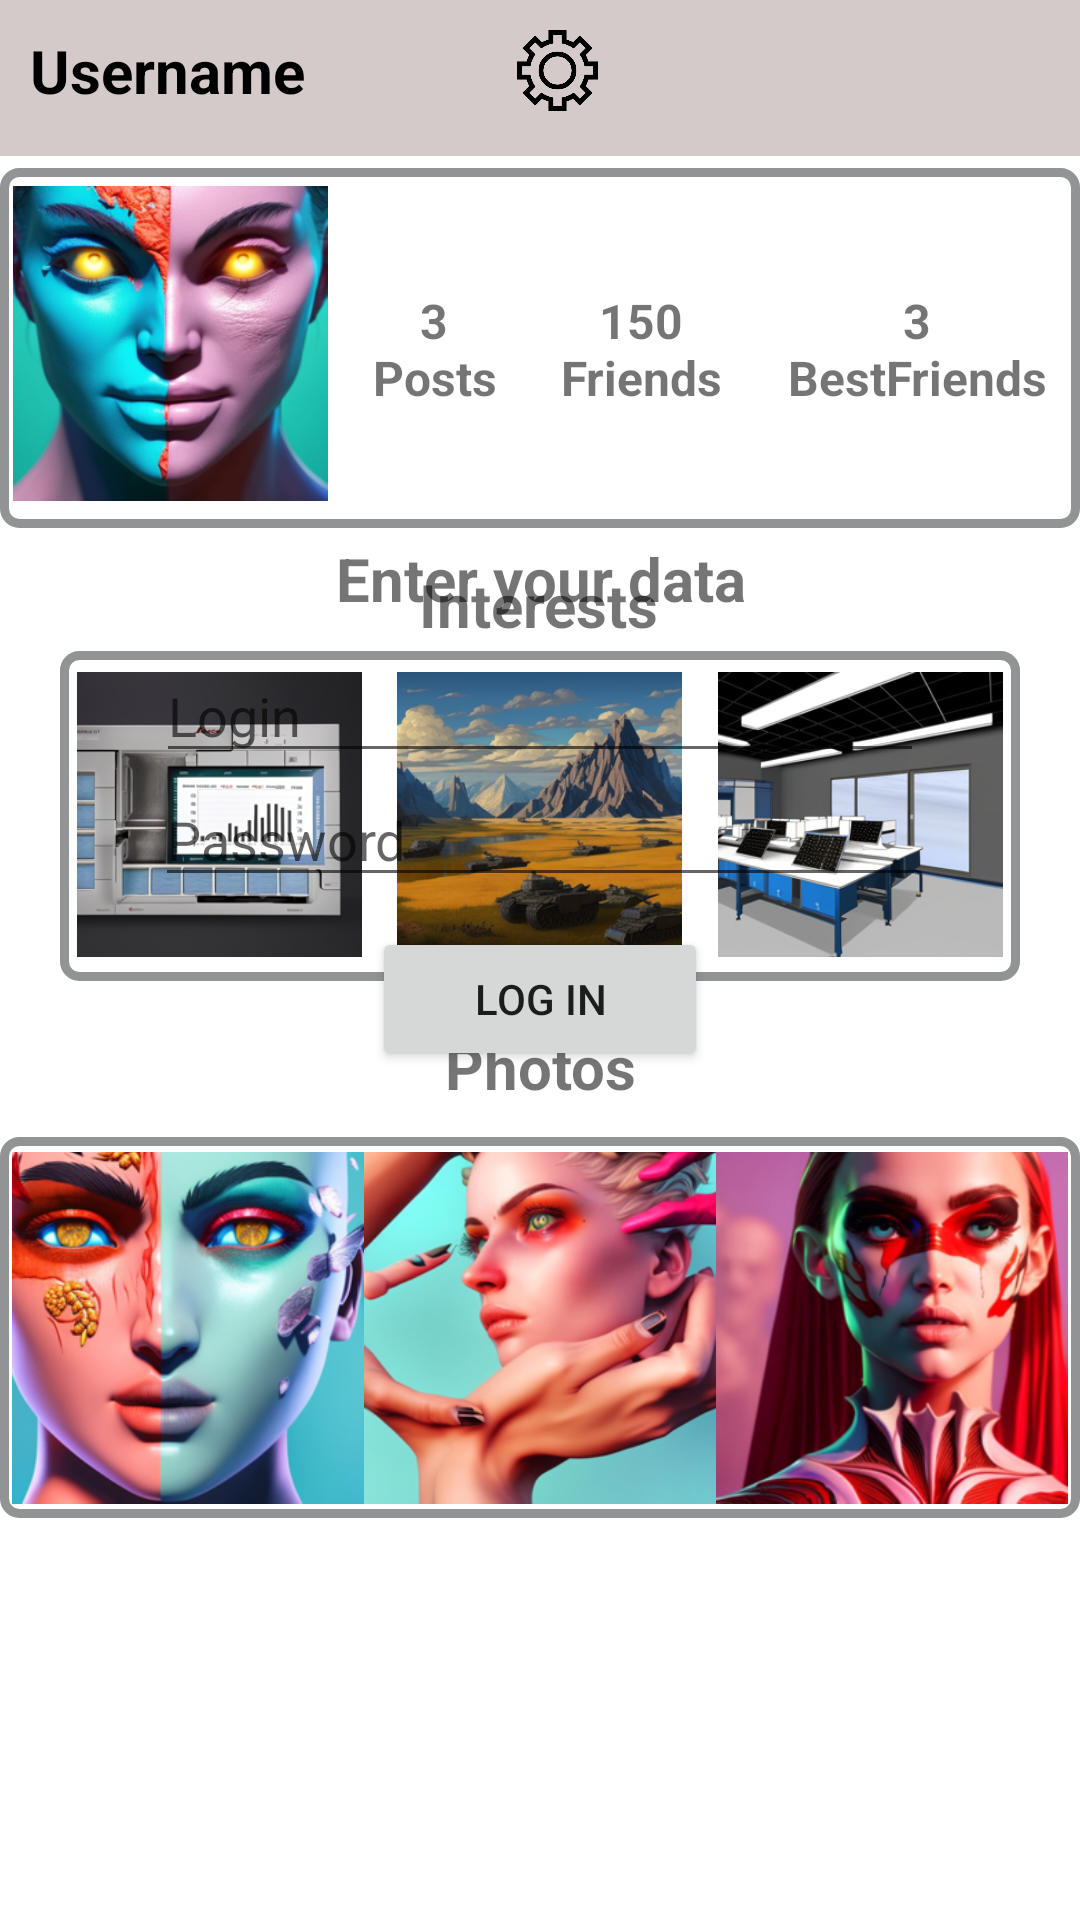

Screen size 1080×1920. Icon name, then its box in pixels as bbox=(x1, y1, x2, y2):
mountains: bbox=(380, 672, 699, 957)
office: bbox=(700, 672, 1020, 957)
photo: bbox=(13, 186, 328, 501)
settings: bbox=(517, 30, 598, 111)
